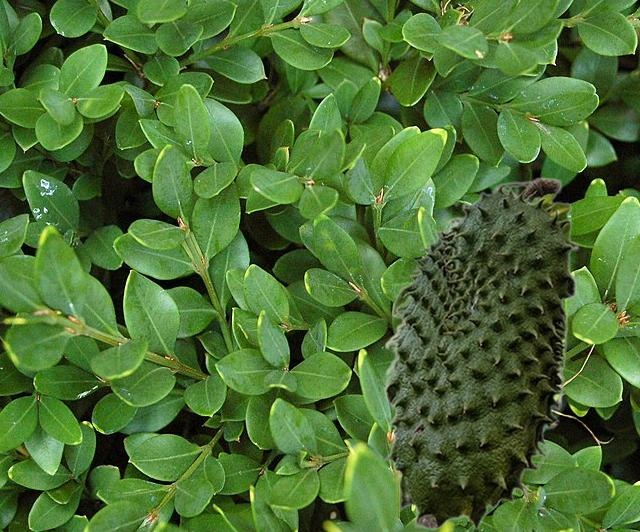guyabano: (382, 176, 578, 530)
